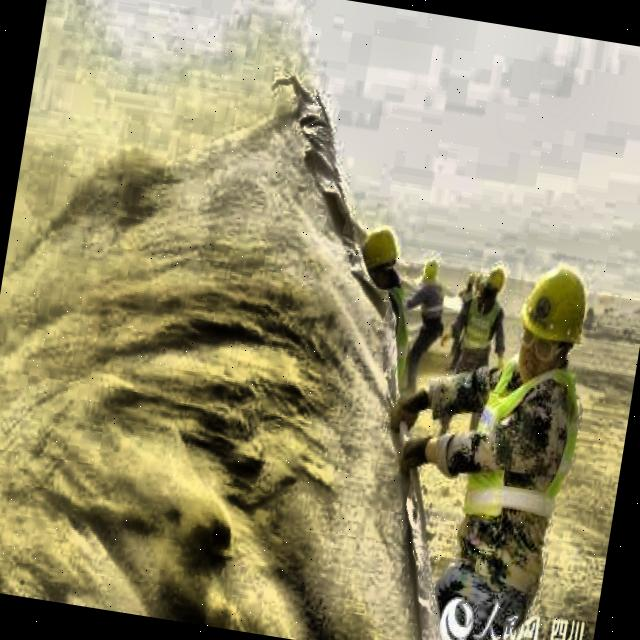helmet: (510, 253, 598, 388), (356, 224, 406, 296), (480, 259, 510, 309)
